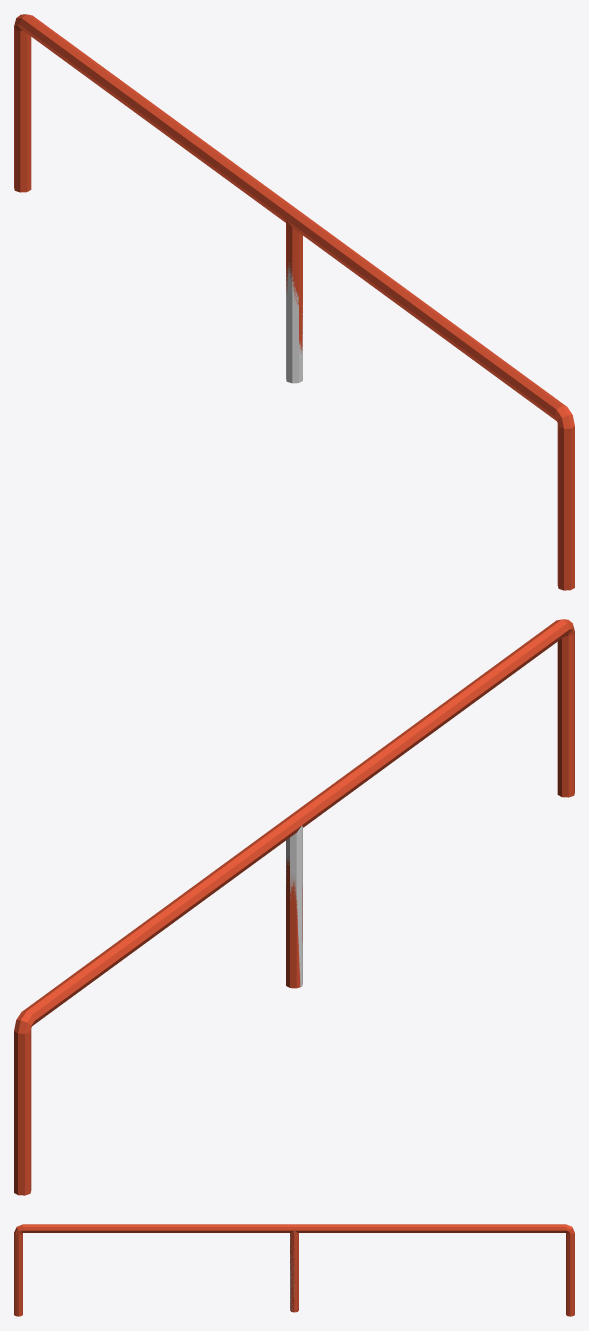
File: rail.fbx
3 renders of one model, top to bottom at view 1: azimuth 30°, elevation 25°; view 2: azimuth 150°, elevation 25°; view 3: azimuth 270°, elevation 25°, orthographic. The views are drawn at different scales.
Visible parts, largest first — view 1: rail, center support; view 2: rail, center support; view 3: rail, center support.
Part boxes in pixels (left/top/right/bottom): rail: left=14, top=14, right=574, bottom=590; center support: left=286, top=263, right=302, bottom=383; rail: left=14, top=619, right=574, bottom=1195; center support: left=286, top=825, right=302, bottom=987; rail: left=14, top=1224, right=574, bottom=1316; center support: left=290, top=1231, right=294, bottom=1311.
Bounding box in the file's own units: 20 × 220 × 1240.
